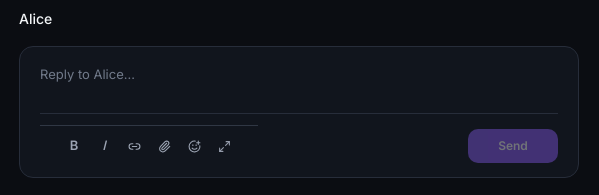
Test: ReplyComposer › keeps send disabled until body has content
This screenshot has width=599, height=195.
Check: the button "Send" is disabled, box 468,128 -> 558,162
Type "Reply body" into the text box with placeholder "Reply to Alice…". click: x=299, y=80
box: 20,47 -> 578,113
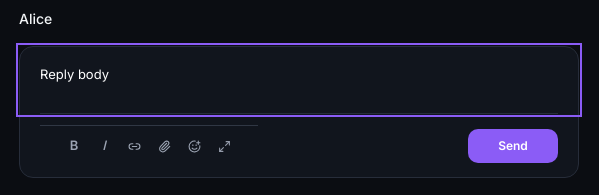
Check: the button "Send" is enabled, box 468,128 -> 558,162
